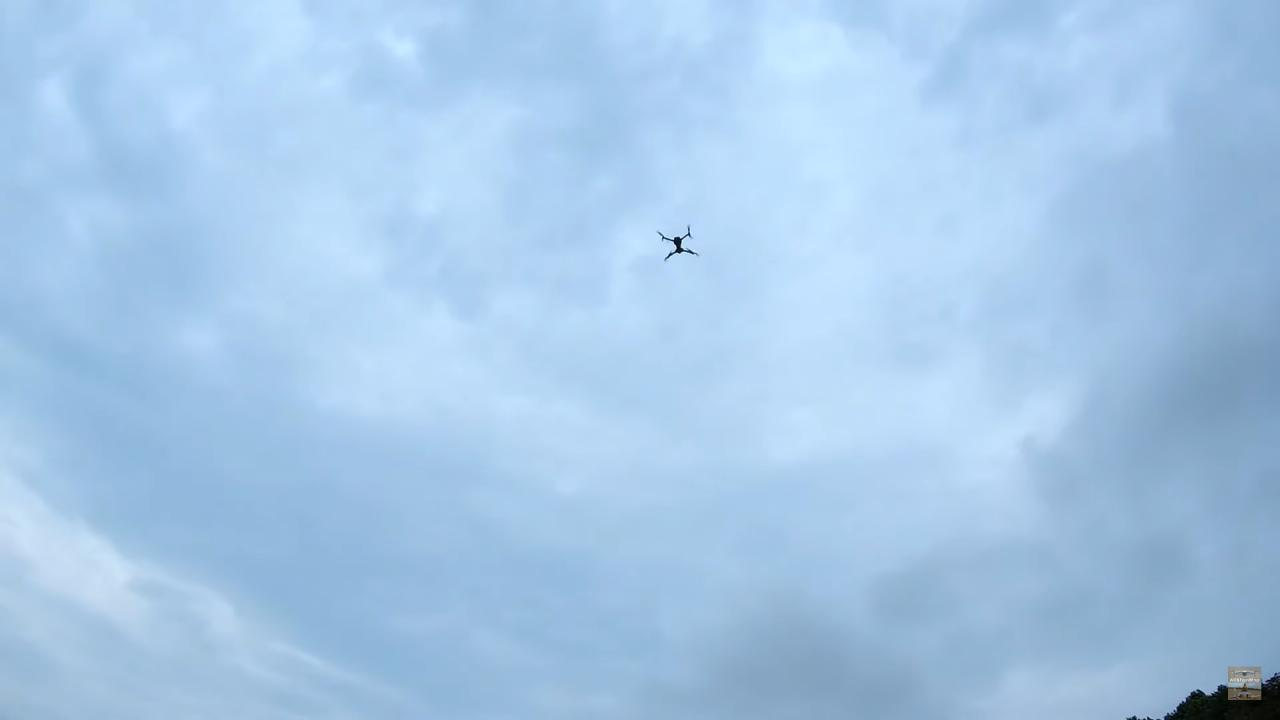Drone: (645, 215, 709, 272)
